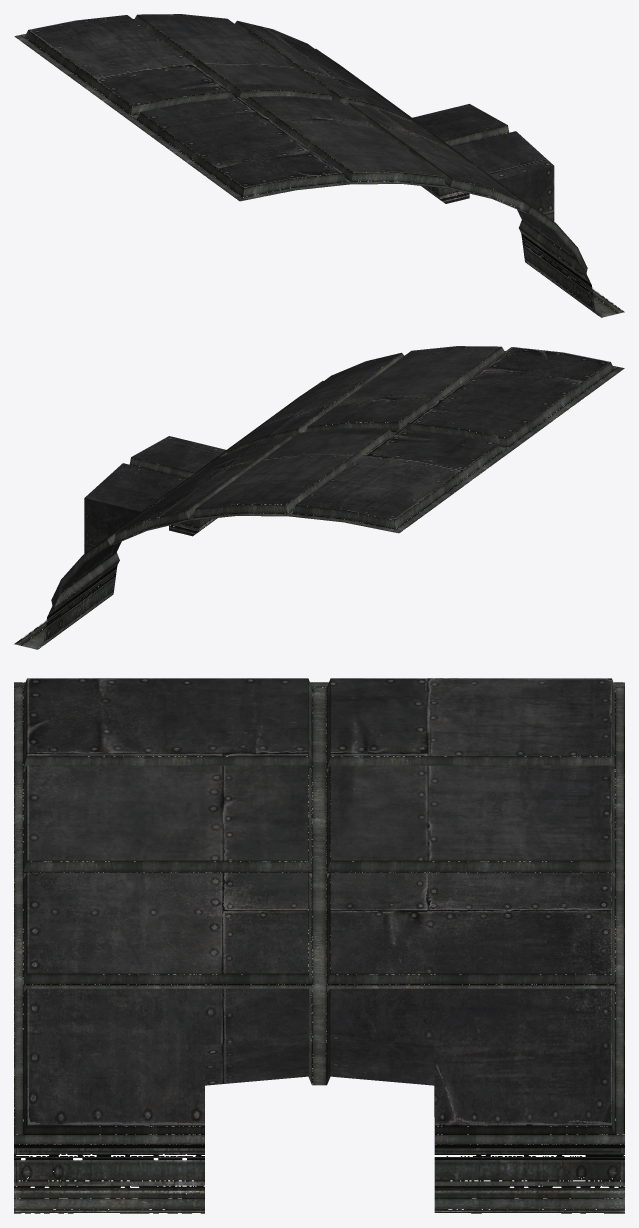
File: tesla_modules1_ceiling_02_door.DAE
3 views of the same model, one above another, from view 1: azimuth 30°, elevation 25°; view 2: azimuth 150°, elevation 25°; view 3: azimuth 270°, elevation 25° (orthographic). The views are drawn at different scales.
Parts seen in each view (by area): view 1: ceiling_02_sheets002, ceiling_02_frame002; view 2: ceiling_02_sheets002, ceiling_02_frame002; view 3: ceiling_02_sheets002, ceiling_02_frame002.
Part boxes in pixels (x1,y1,x2,y2): ceiling_02_sheets002: (29,14,577,260); ceiling_02_frame002: (14,14,624,317); ceiling_02_sheets002: (61,346,609,592); ceiling_02_frame002: (14,346,624,649); ceiling_02_sheets002: (27,678,611,1146); ceiling_02_frame002: (14,679,624,1213).
Bounding box in the file's own units: 3.94 × 2.07 × 4.
